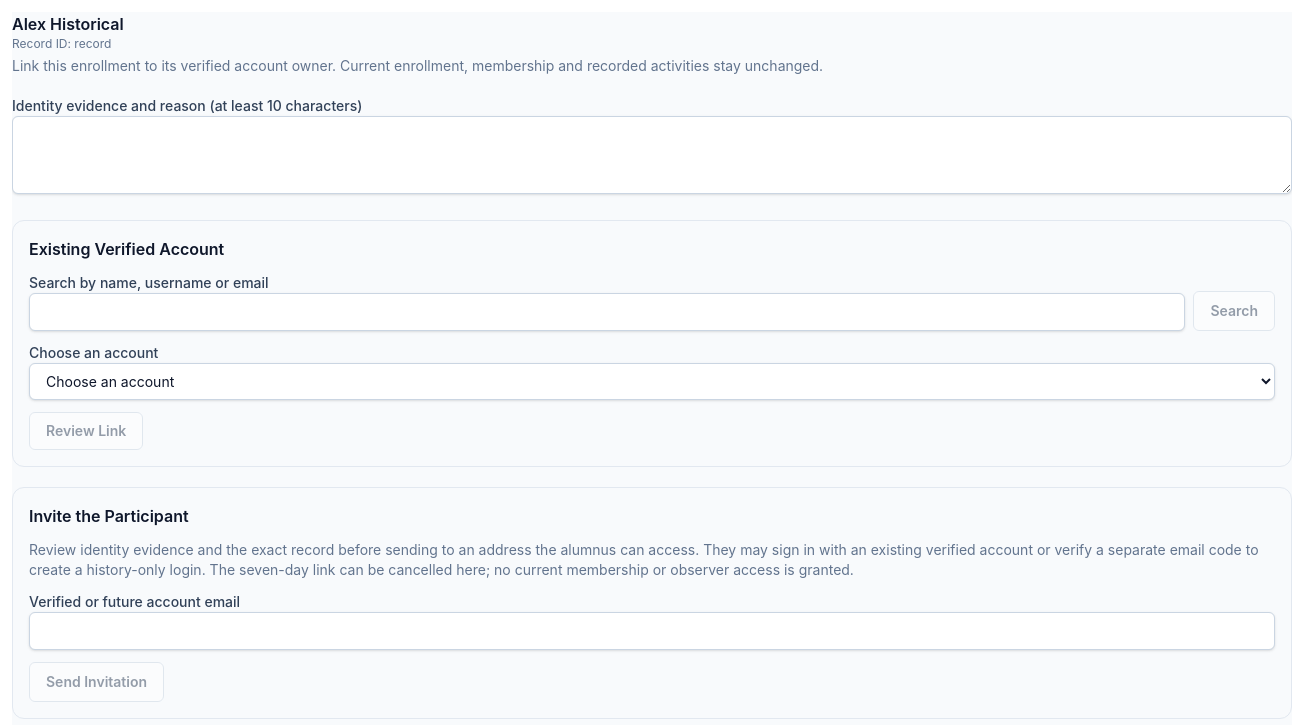
it: blocks an Admin from resolving a retained-owner conflict
Select "Alex Verified · alex@example.test" in the dropdown at (652, 382), box [29,363,1275,400]
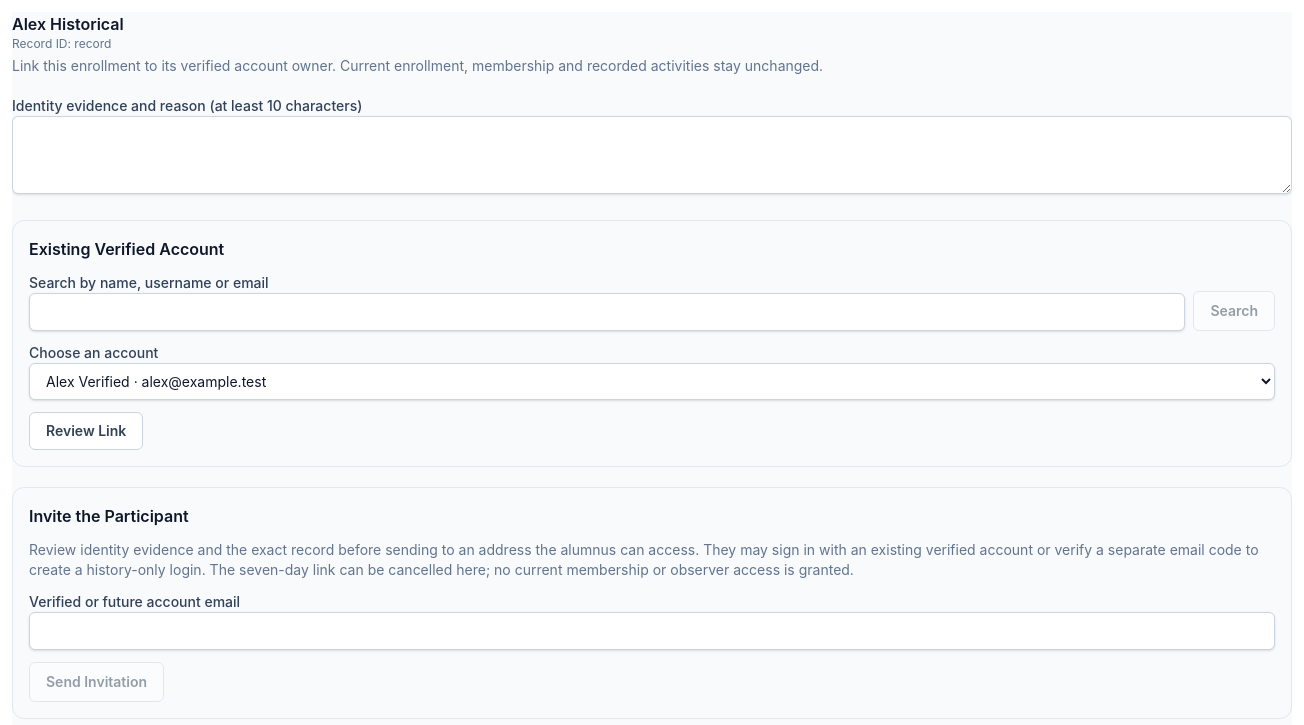
Click the button "Review Link" at (86, 431), box [29,412,143,450]
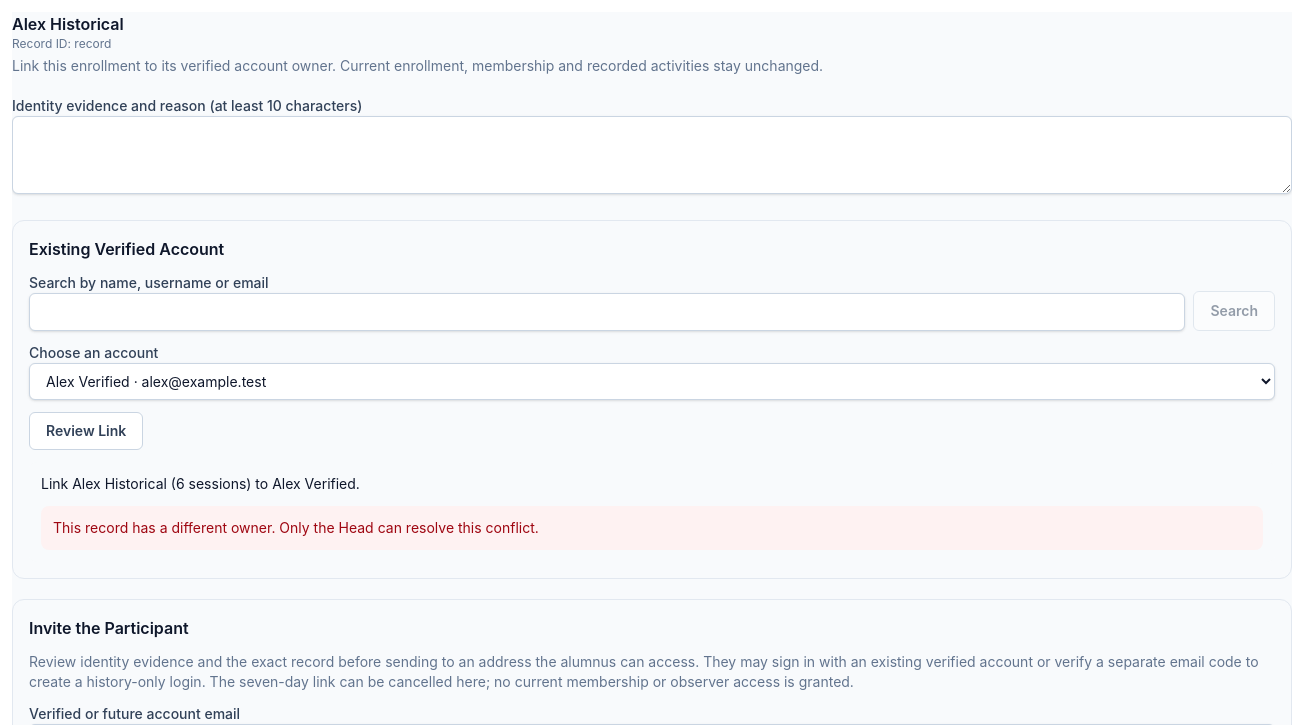
Now the message reads "This record has a different owner. Only the Head can resolve this conflict.", box [53,519,539,536]
